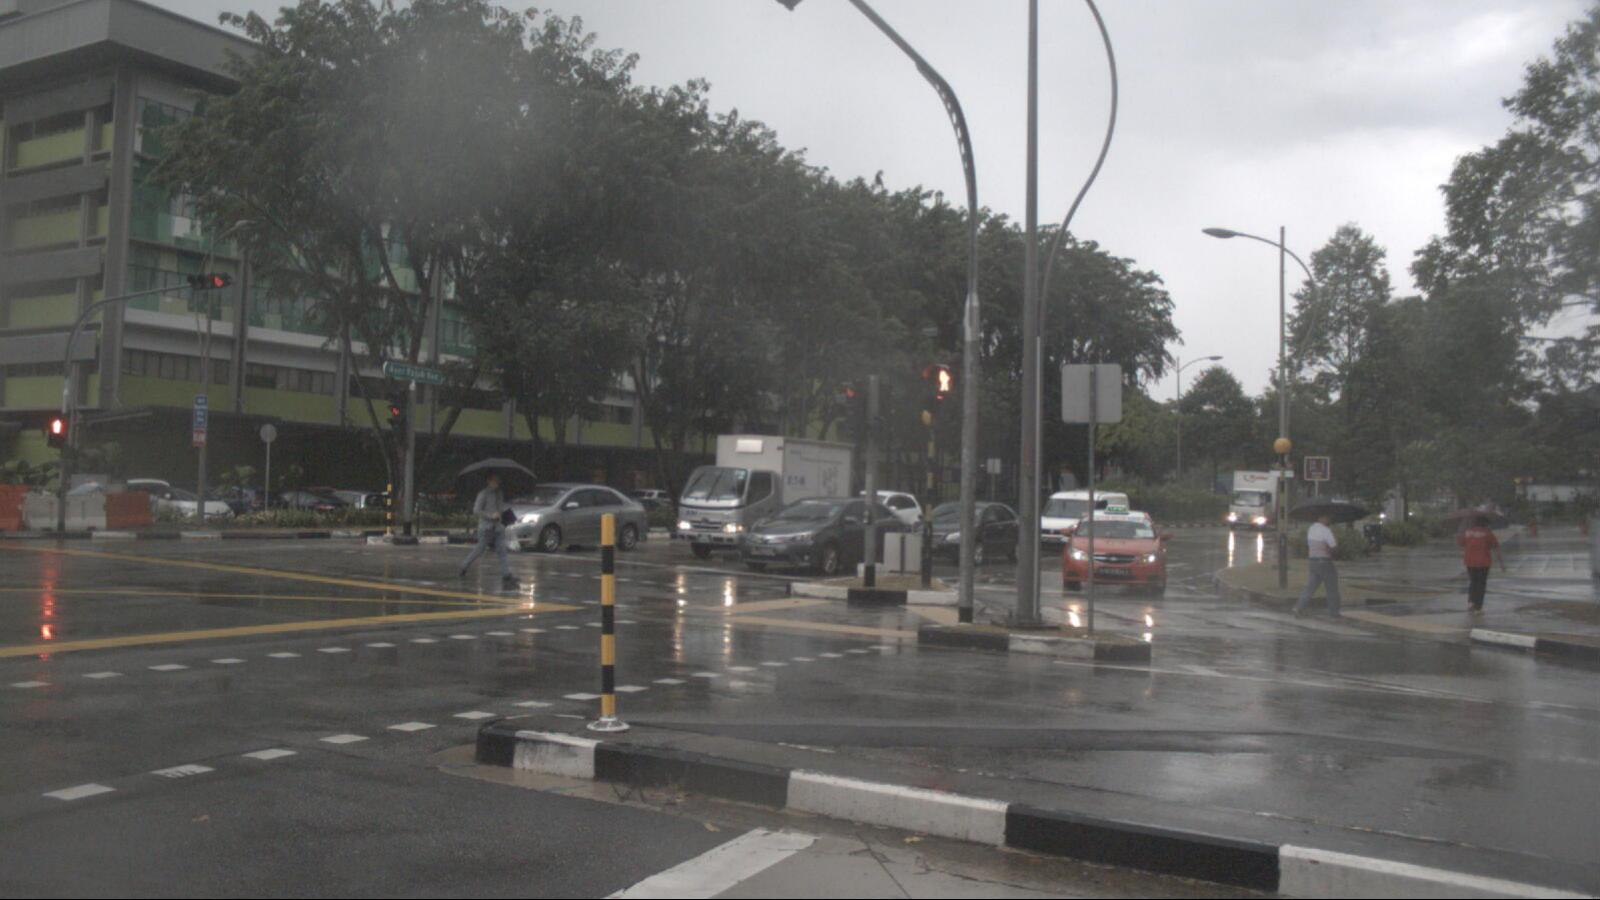human.pedestrian.adult-pedestrian.moving: (459, 459, 539, 593), (1288, 496, 1370, 624), (1443, 505, 1507, 618)
